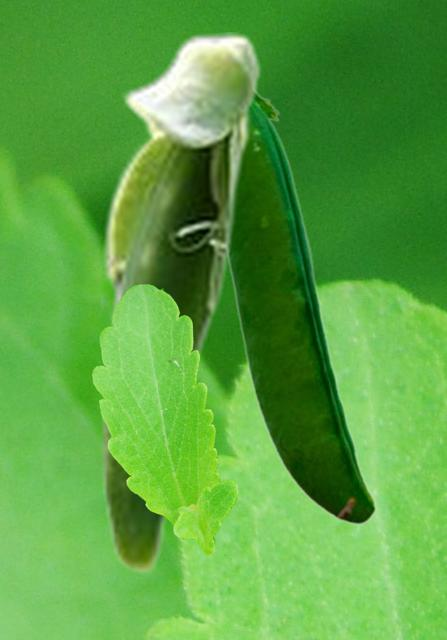pea: (99, 32, 262, 574), (228, 91, 375, 524)
